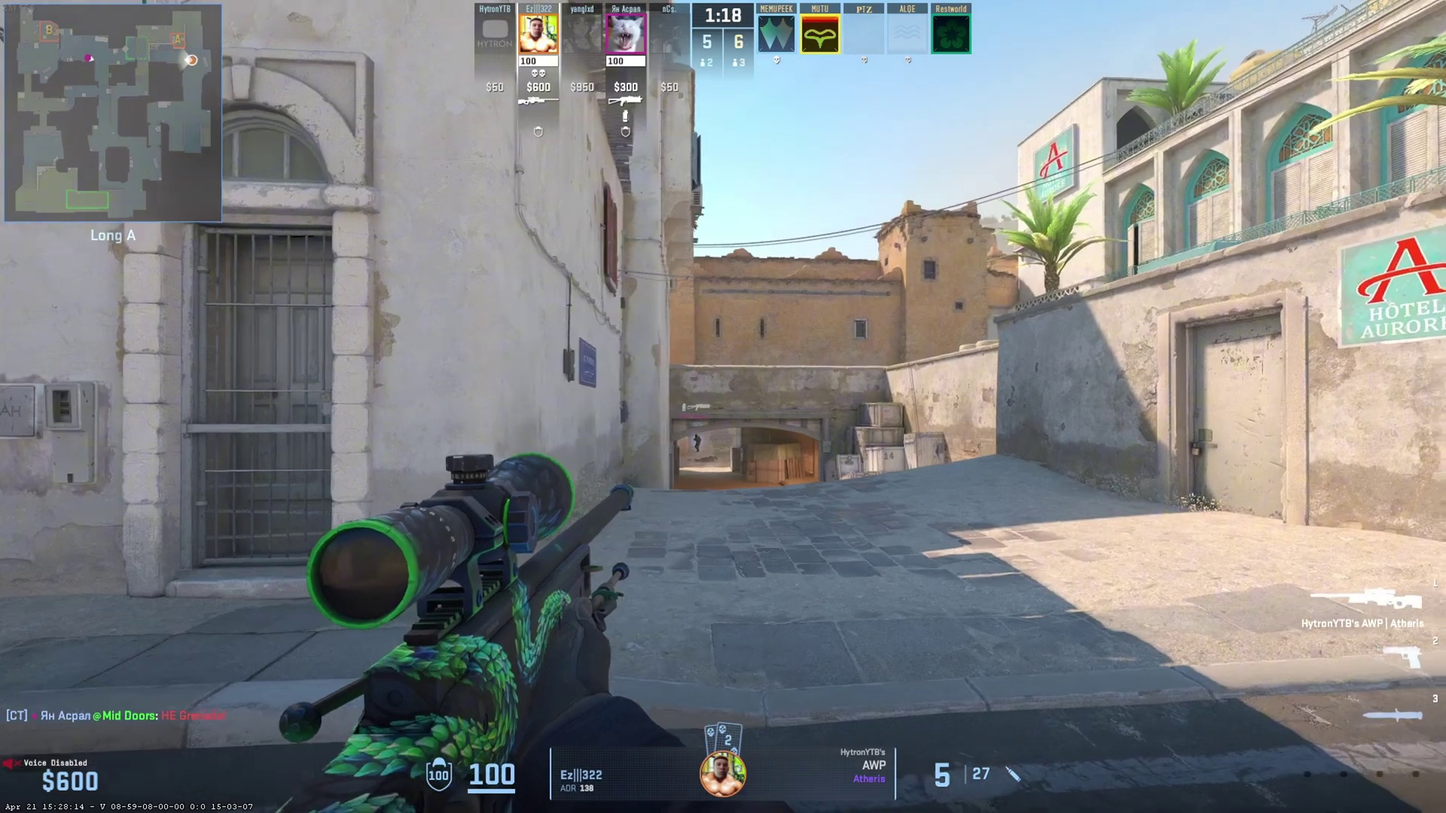CT: (694, 434, 701, 451)
